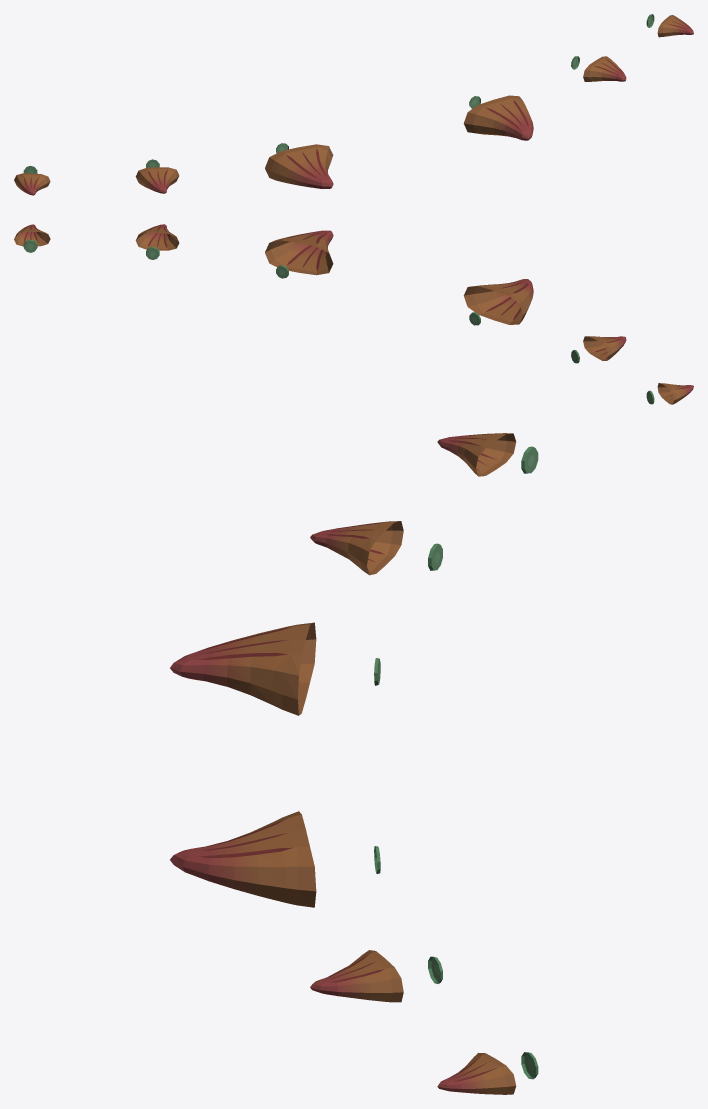
File: repeatingCrossbowChineseDragonSimpleTip.glb
3 views of the same model, one above another, from view 1: azimuth 30°, elevation 25°; view 2: azimuth 150°, elevation 25°; view 3: azimuth 270°, elevation 25° (orthographic). The views are drawn at different scales.
Visible parts, largest first — view 1: repeatingCrossbowChineseDragonSimpleTip; view 2: repeatingCrossbowChineseDragonSimpleTip; view 3: repeatingCrossbowChineseDragonSimpleTip.
Part boxes in pixels (bbox=[...]): repeatingCrossbowChineseDragonSimpleTip: bbox=[14, 14, 693, 195]; repeatingCrossbowChineseDragonSimpleTip: bbox=[14, 224, 693, 404]; repeatingCrossbowChineseDragonSimpleTip: bbox=[170, 433, 538, 1094].
Size of the model in its own units: 0.7005 by 0.0299 by 0.168.
